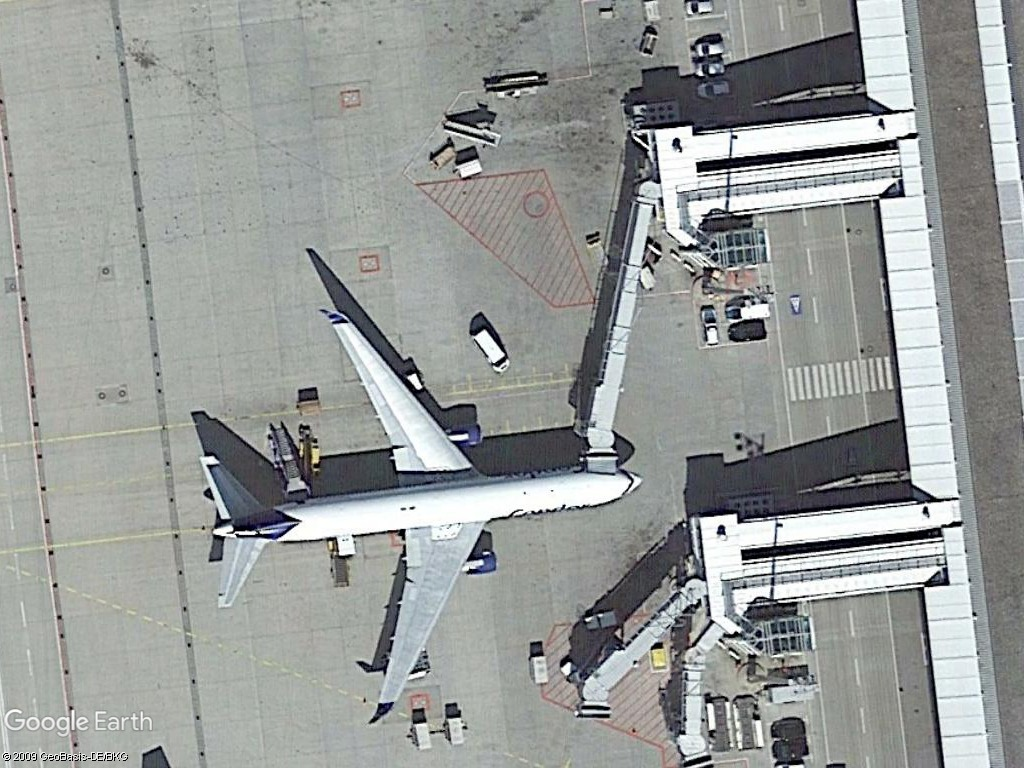airliner: (179, 310, 647, 728)
van: (438, 114, 503, 153), (467, 325, 513, 374)
